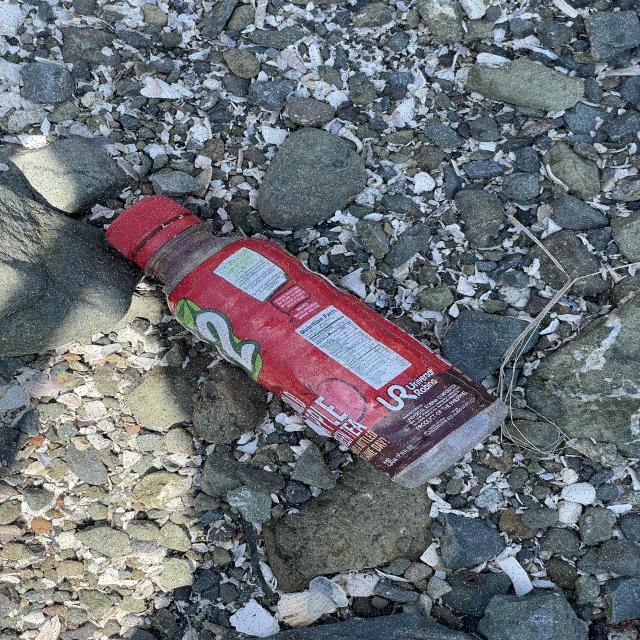plastic_waste: (103, 194, 513, 491)
